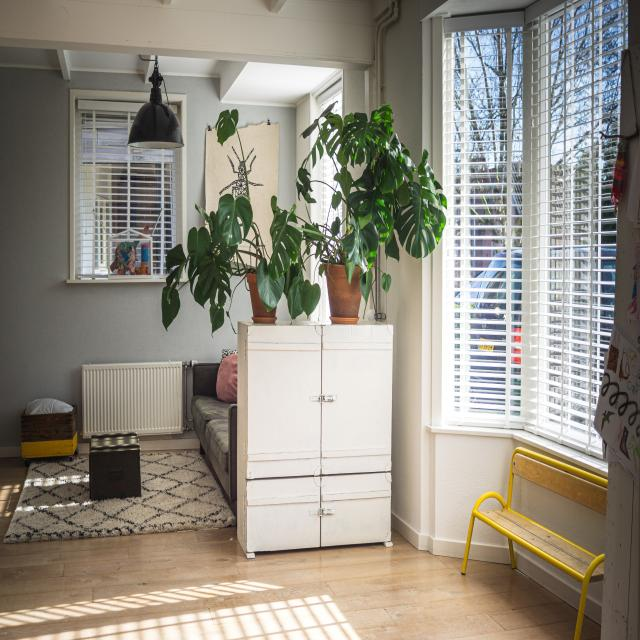floor: (0, 448, 579, 640), (580, 614, 602, 640)
